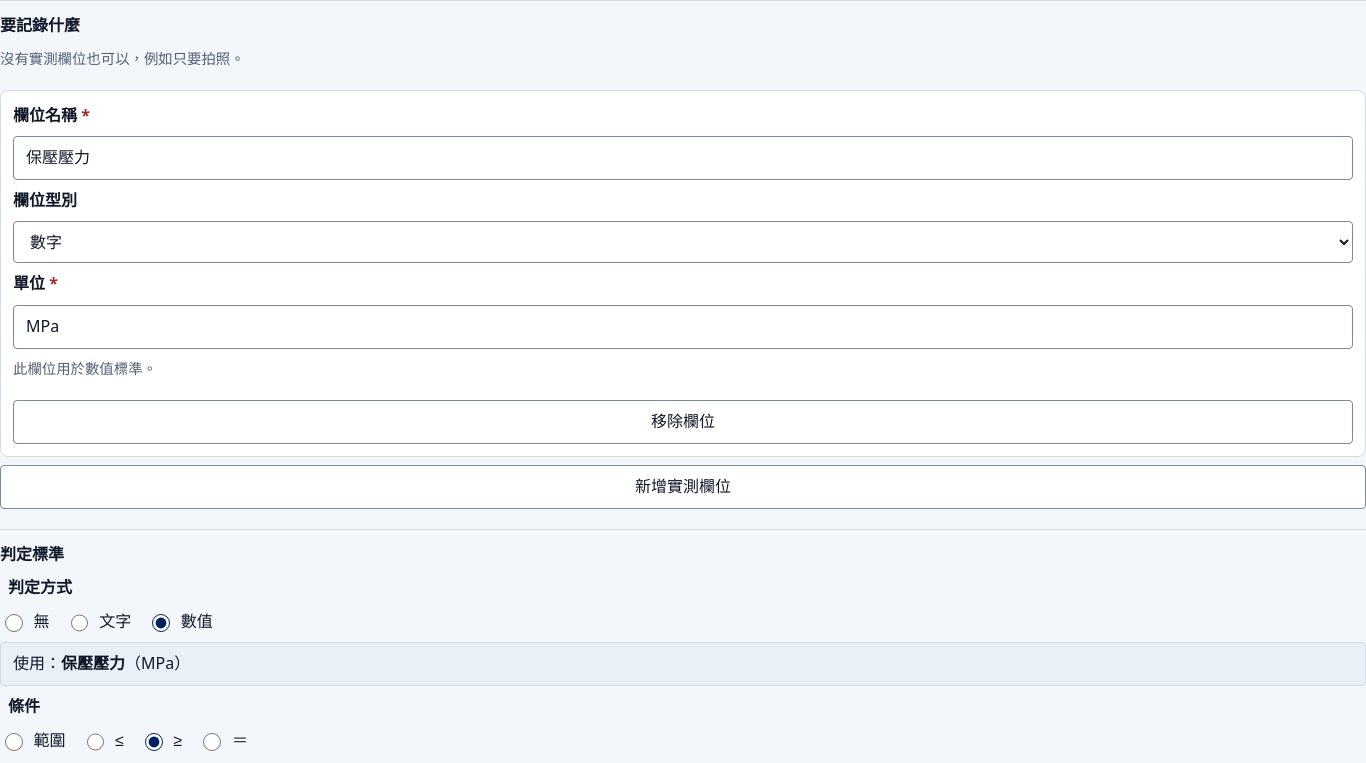
Test: 切成無標準後立即清除先前的綁定錯誤
Click the button "移除欄位".
click(683, 422)  # box [13,400,1353,444]
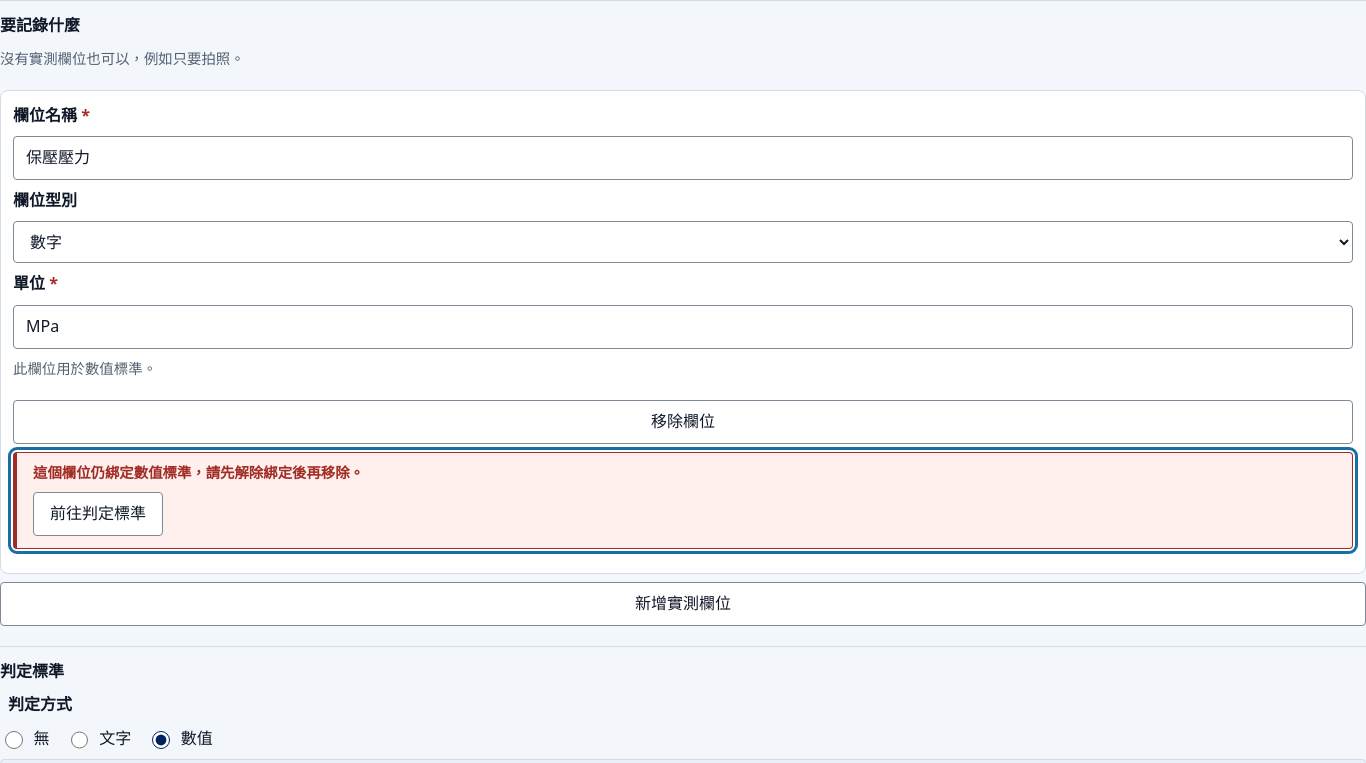
Expected: the text "這個欄位仍綁定數值標準，請先解除綁定後再移除。" is shown, [33,463,364,482]
Click the radio button labelled "無".
click(14, 740)  # box [5,731,23,749]
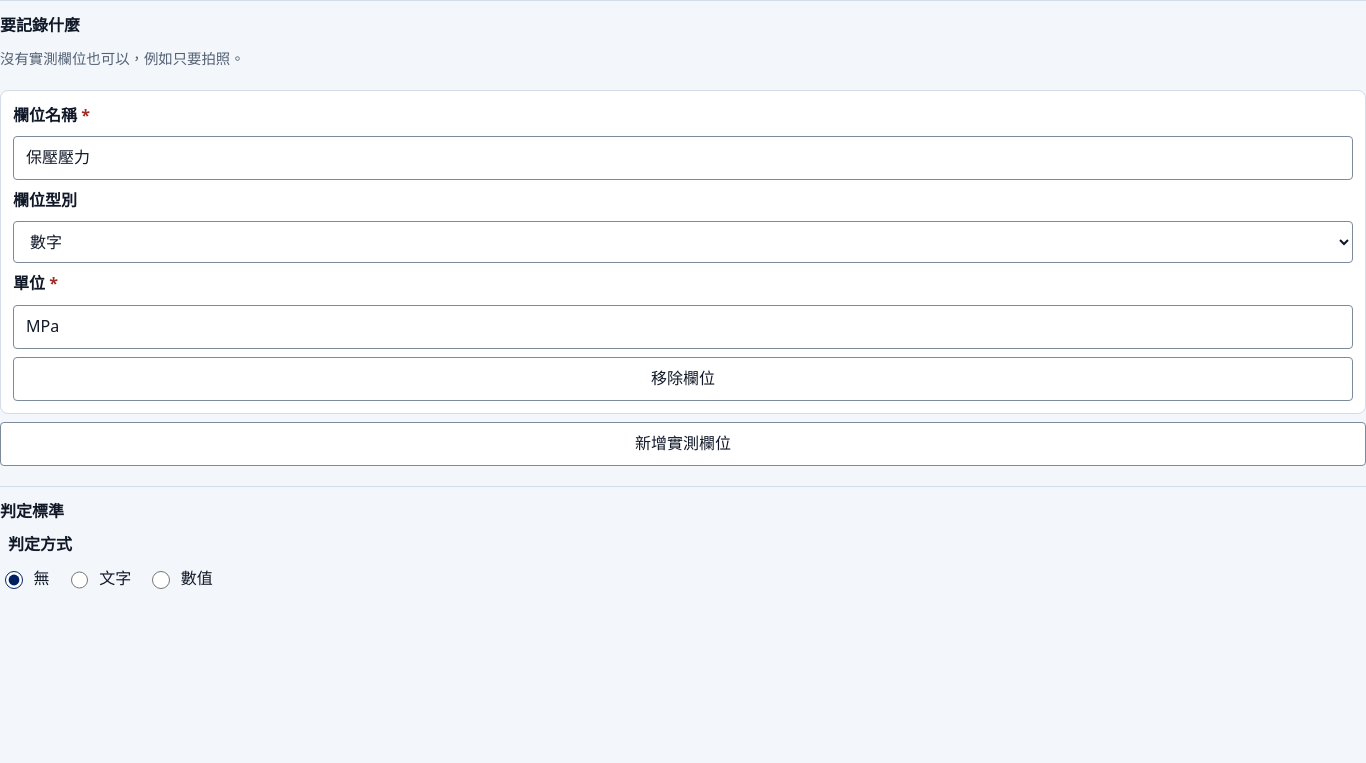
Expected: the text "這個欄位仍綁定數值標準" is gone
Click the button "移除欄位".
click(683, 379)  # box [13,357,1353,401]
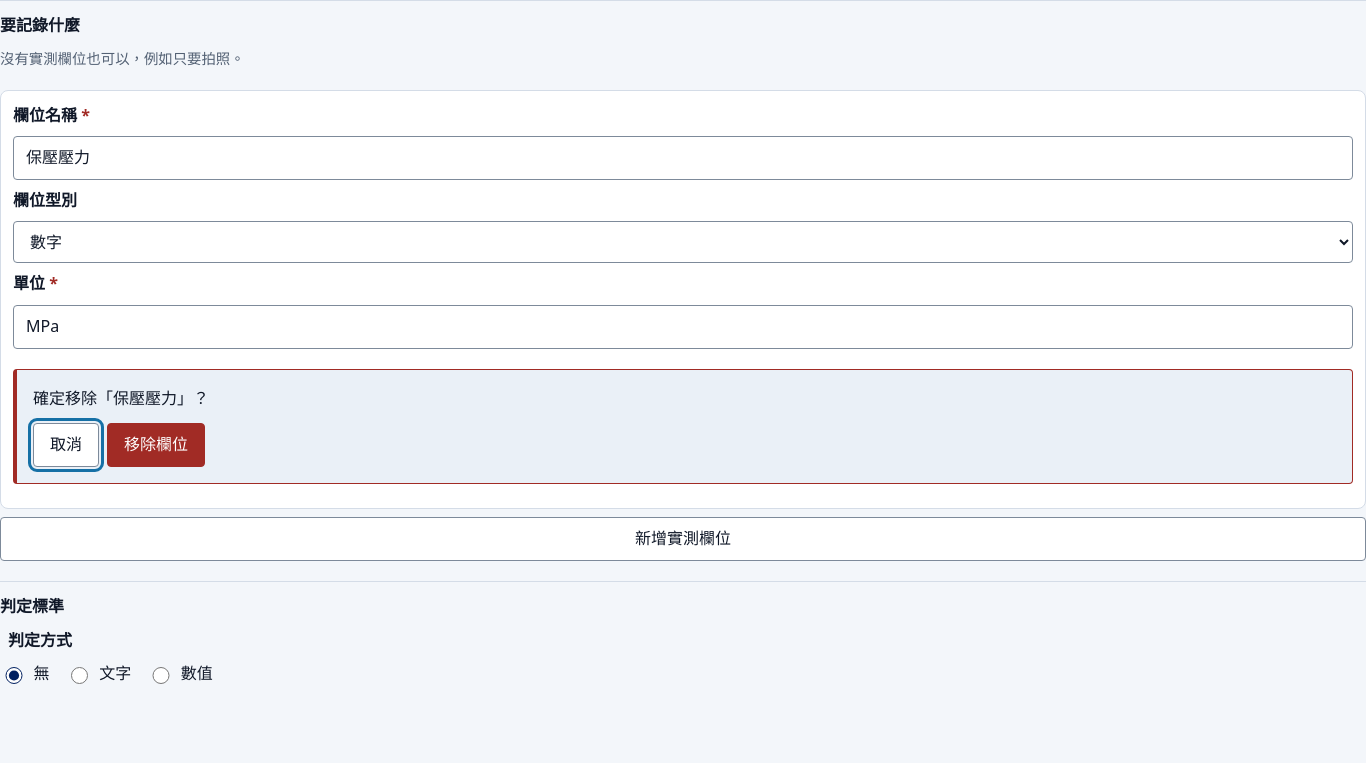
Expected: the element named "移除欄位確認" is shown, [13,369,1353,484]
